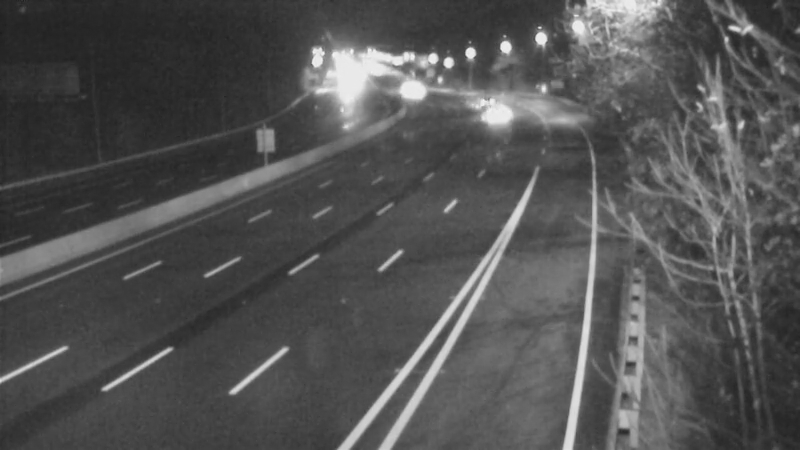vehicle: (385, 60, 435, 110), (391, 70, 441, 120), (450, 72, 500, 122), (468, 93, 518, 143)
